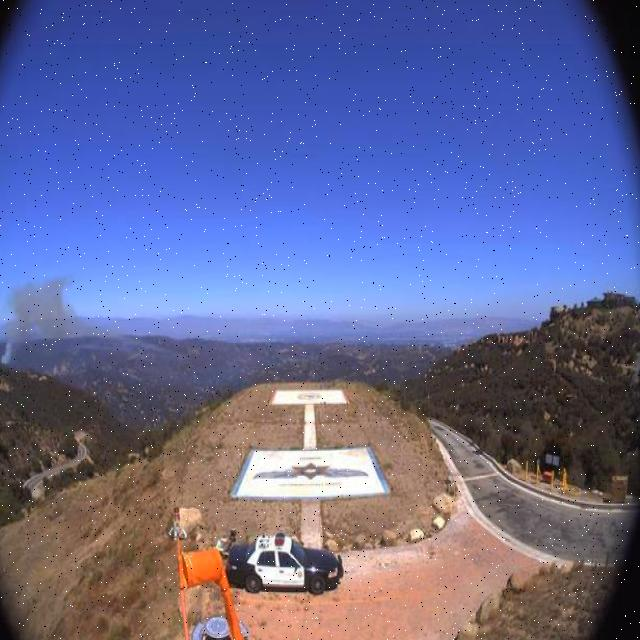smoke: (0, 265, 98, 376)
